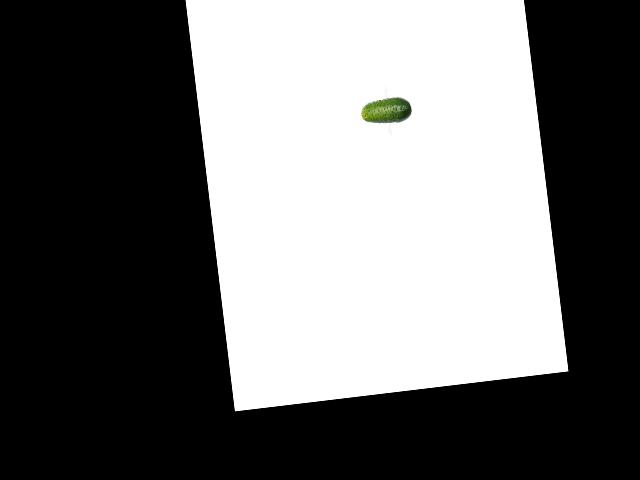cucumber: (359, 94, 413, 126)
